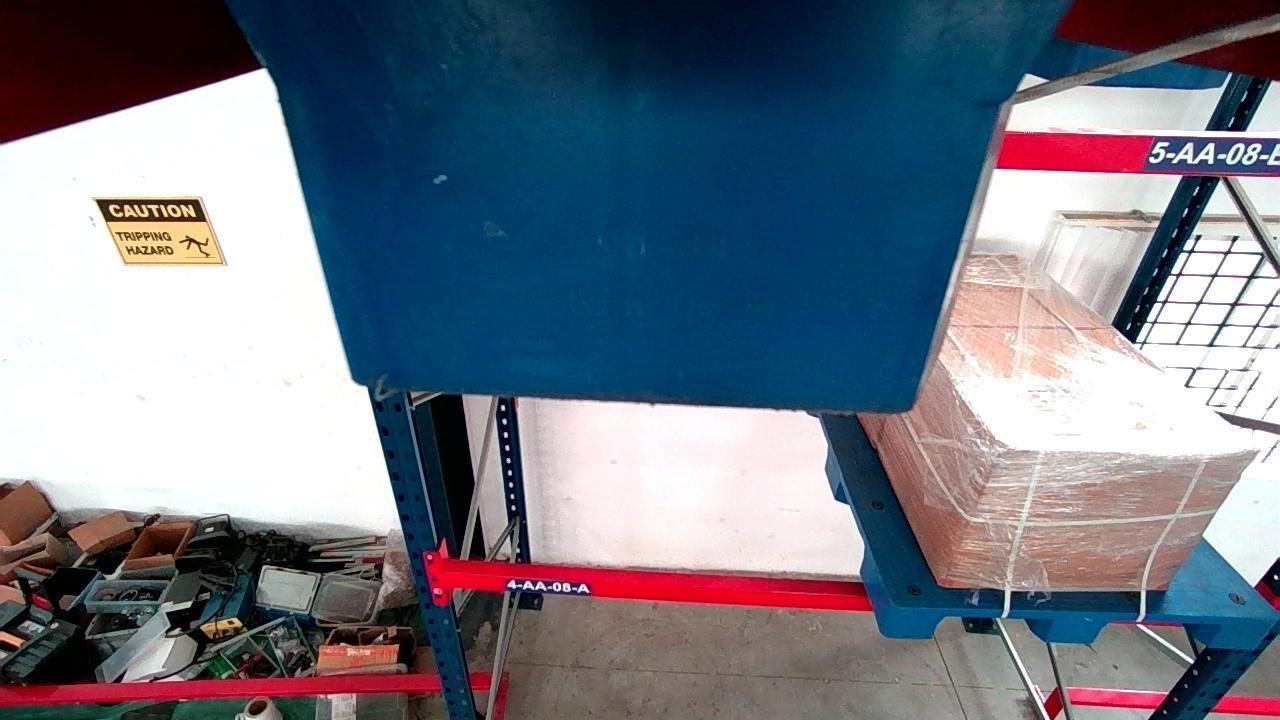h_rack: (443, 566, 872, 606), (995, 130, 1280, 175)
small_pallet: (890, 604, 1279, 648)
